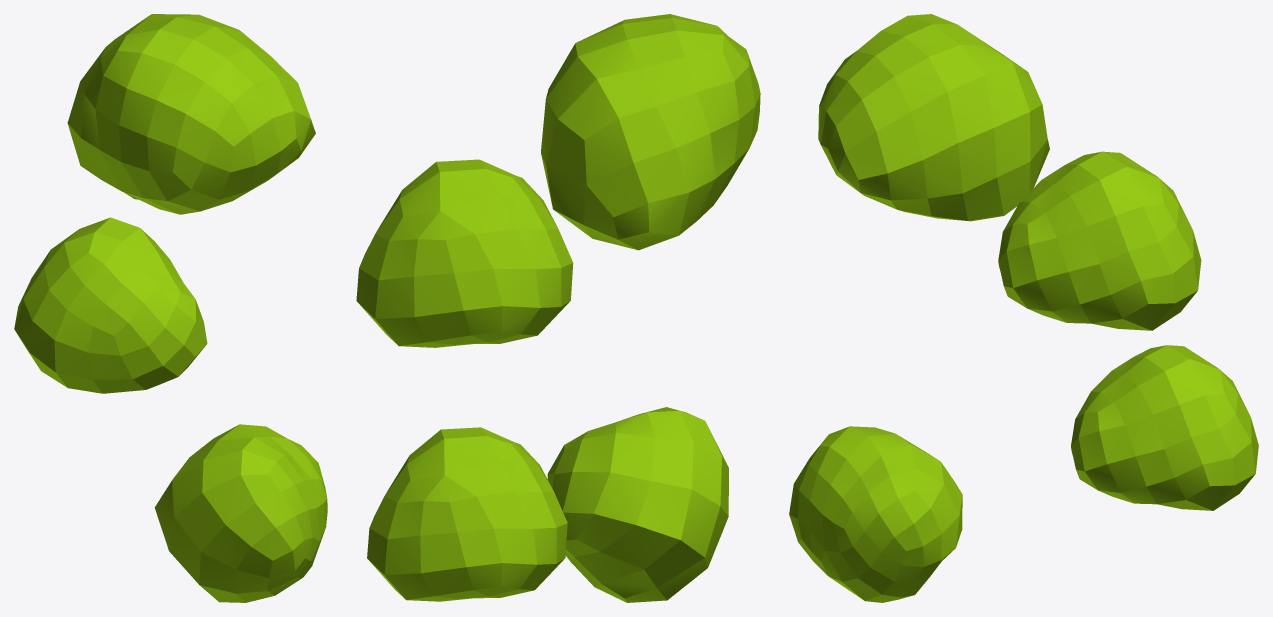
Rendered from tree_big_4_round.fbx.
3 renders of one model, left to right at view 1: azimuth 30°, elevation 25°; view 2: azimuth 150°, elevation 25°; view 3: azimuth 270°, elevation 25°, orthographic. The views are drawn at different scales.
Parts seen in each view (by area): view 1: tree_big_4_round; view 2: tree_big_4_round; view 3: tree_big_4_round.
Part boxes in pixels (x1=…): tree_big_4_round: x1=14, y1=14, x2=327, y2=602; tree_big_4_round: x1=356, y1=14, x2=760, y2=602; tree_big_4_round: x1=789, y1=14, x2=1258, y2=602.
Bounding box in the file's own units: 155 × 337 × 263.
